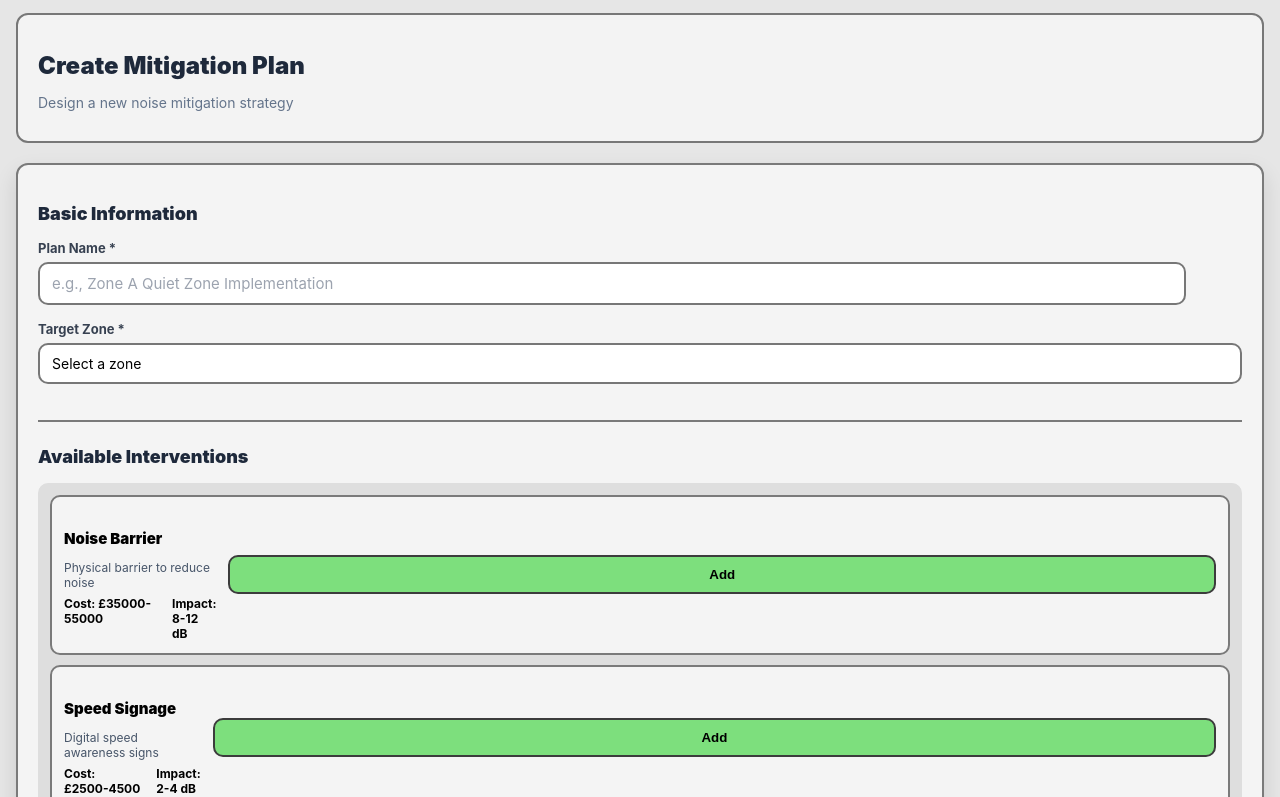
Test: PlanBuilder › resets form after successful submission
Fill in plan name
In the field with placeholder "e.g., Zone A Quiet Zone Implementation": [612, 283] box [38,262,1186,305], type "Test Plan"
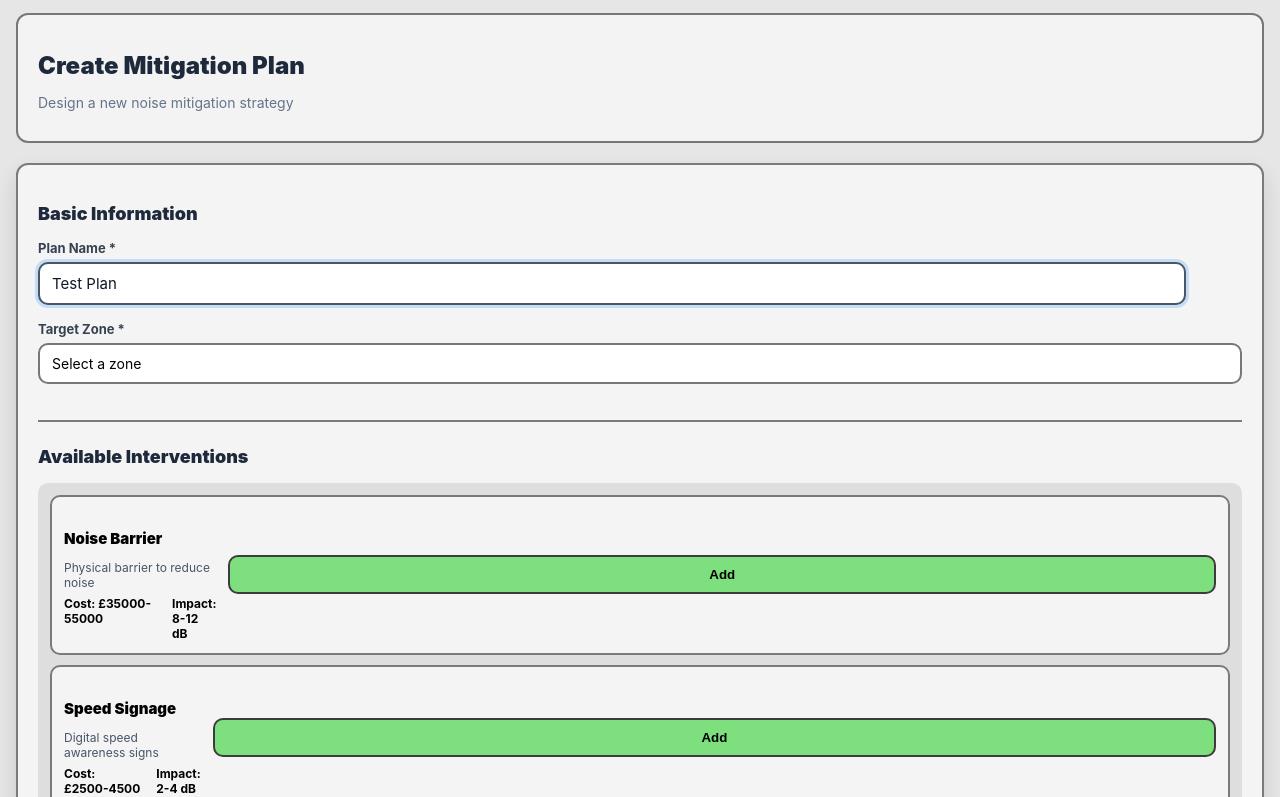
Select a zone
Select "North-West - ( priority)" in the dropdown: [640, 363] box [38,343,1242,384]
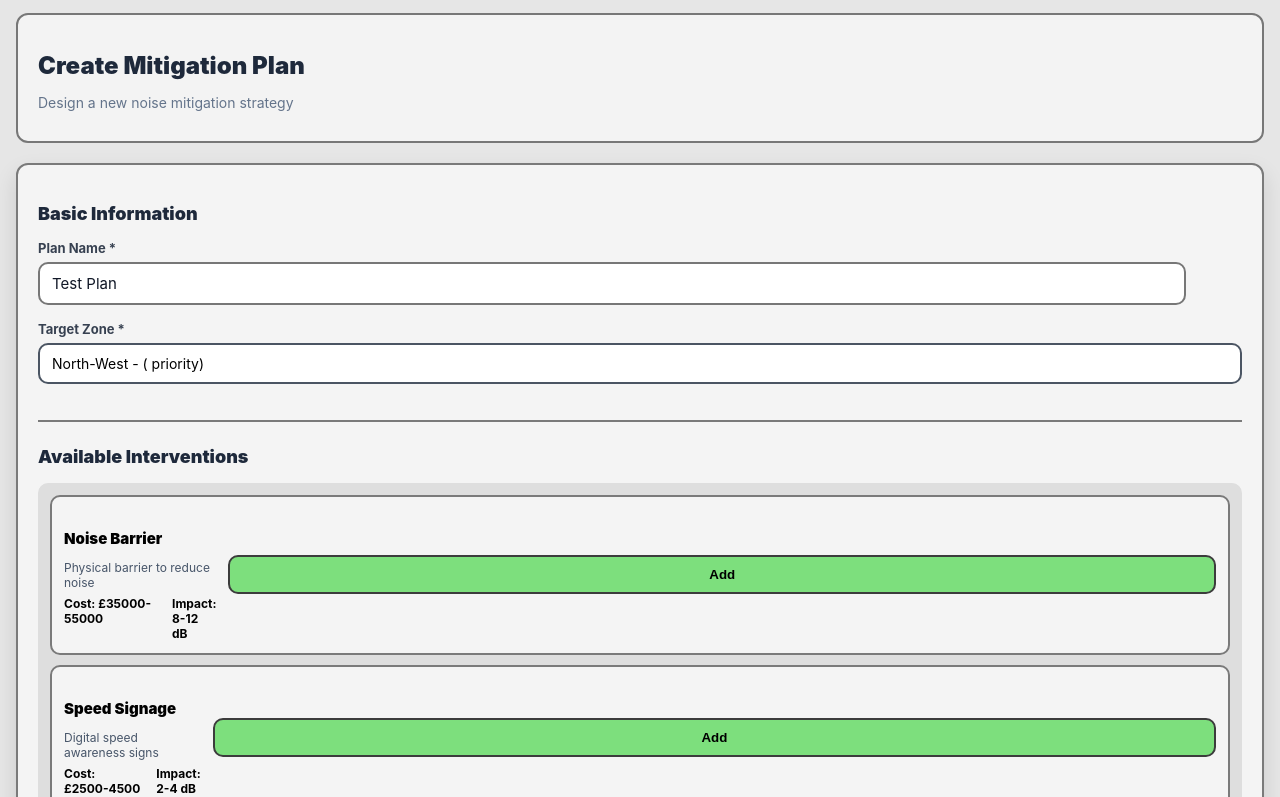
Add an intervention
Click the button "Add" next to "Physical barrier to reduce noise": [722, 575] box [228,555,1216,594]
(page scrolled)
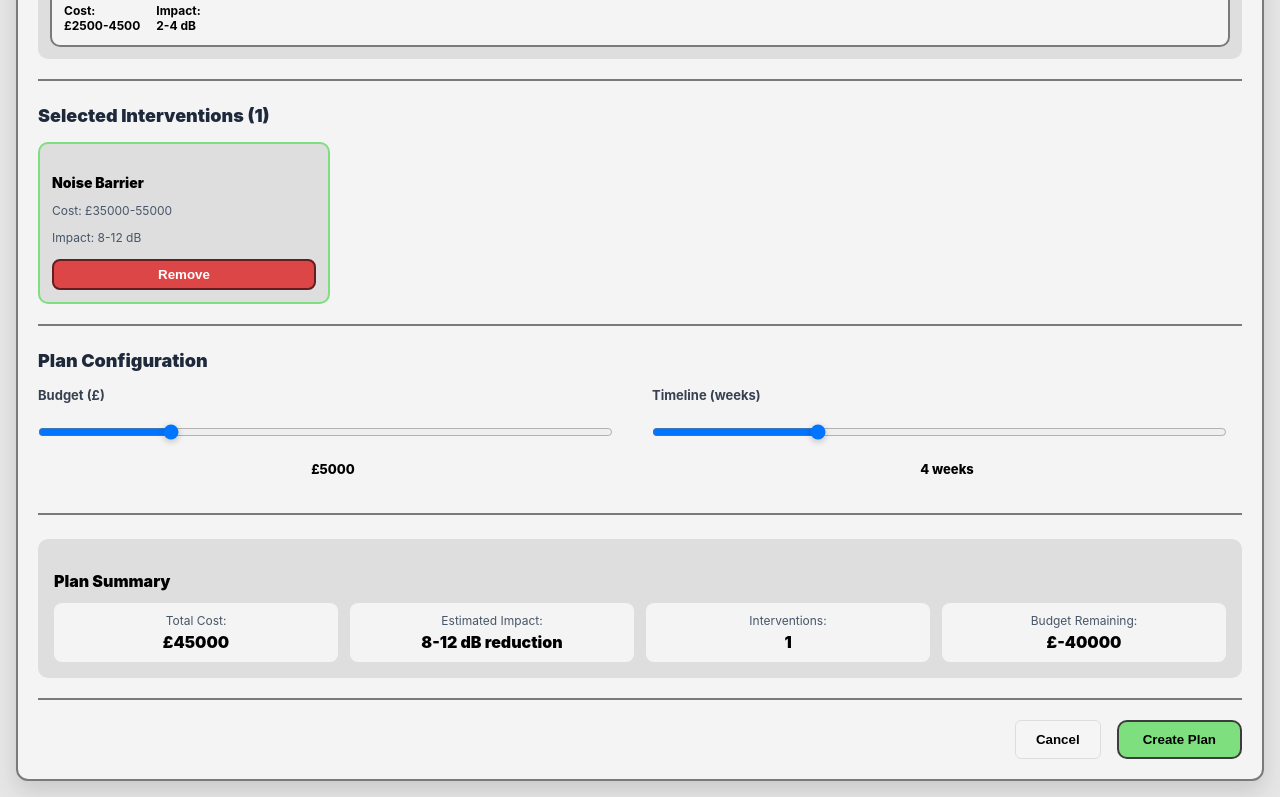
Submit the form
Click the button "Create Plan": [1179, 740] box [1117,720,1242,759]
(page scrolled)
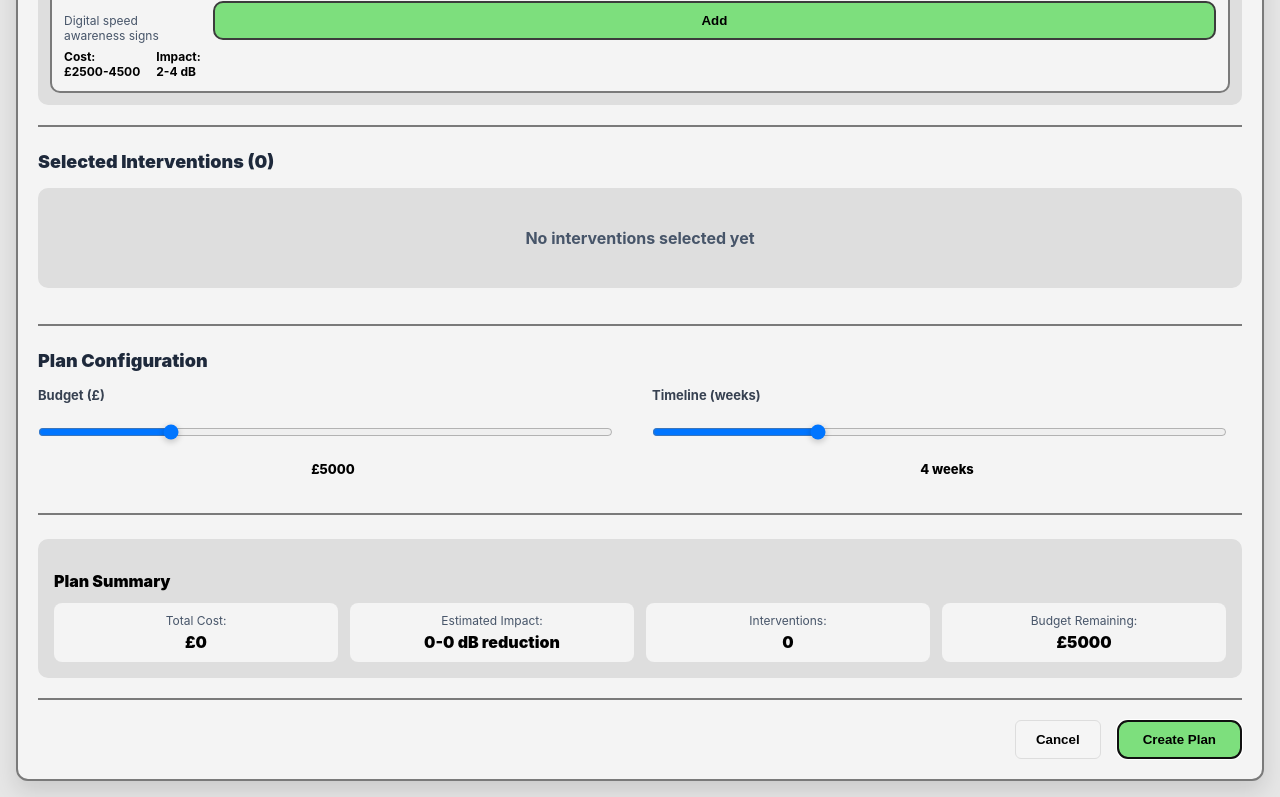
expect the text "No interventions selected yet" is shown: met, box [38,188,1242,288]
